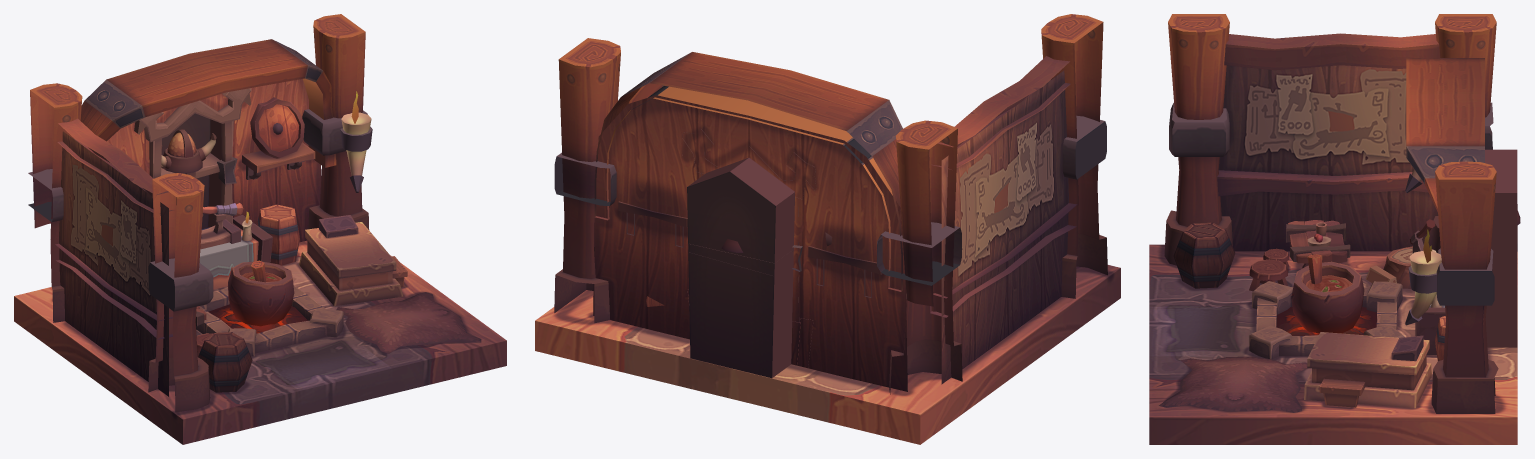
Rendered from viking-room.fbx.
3 renders of one model, left to right at view 1: azimuth 30°, elevation 25°; view 2: azimuth 150°, elevation 25°; view 3: azimuth 270°, elevation 25°, orthographic. The views are drawn at different scales.
Visible parts, largest first — view 1: mesh_all1_Texture1_0; view 2: mesh_all1_Texture1_0; view 3: mesh_all1_Texture1_0.
Part boxes in pixels (bbox=[...]): mesh_all1_Texture1_0: bbox=[14, 14, 506, 444]; mesh_all1_Texture1_0: bbox=[535, 14, 1120, 444]; mesh_all1_Texture1_0: bbox=[1149, 14, 1520, 444].
Size of the model in its own units: 2631 by 1860 by 2391.
